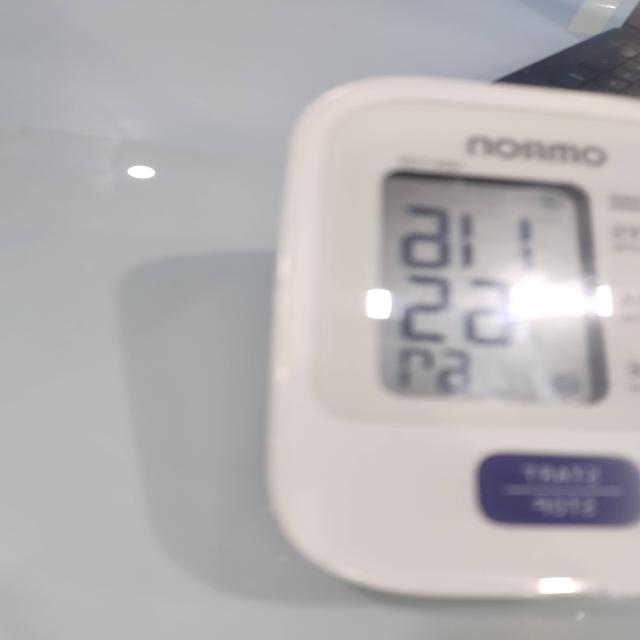bp: (263, 76, 640, 612)
